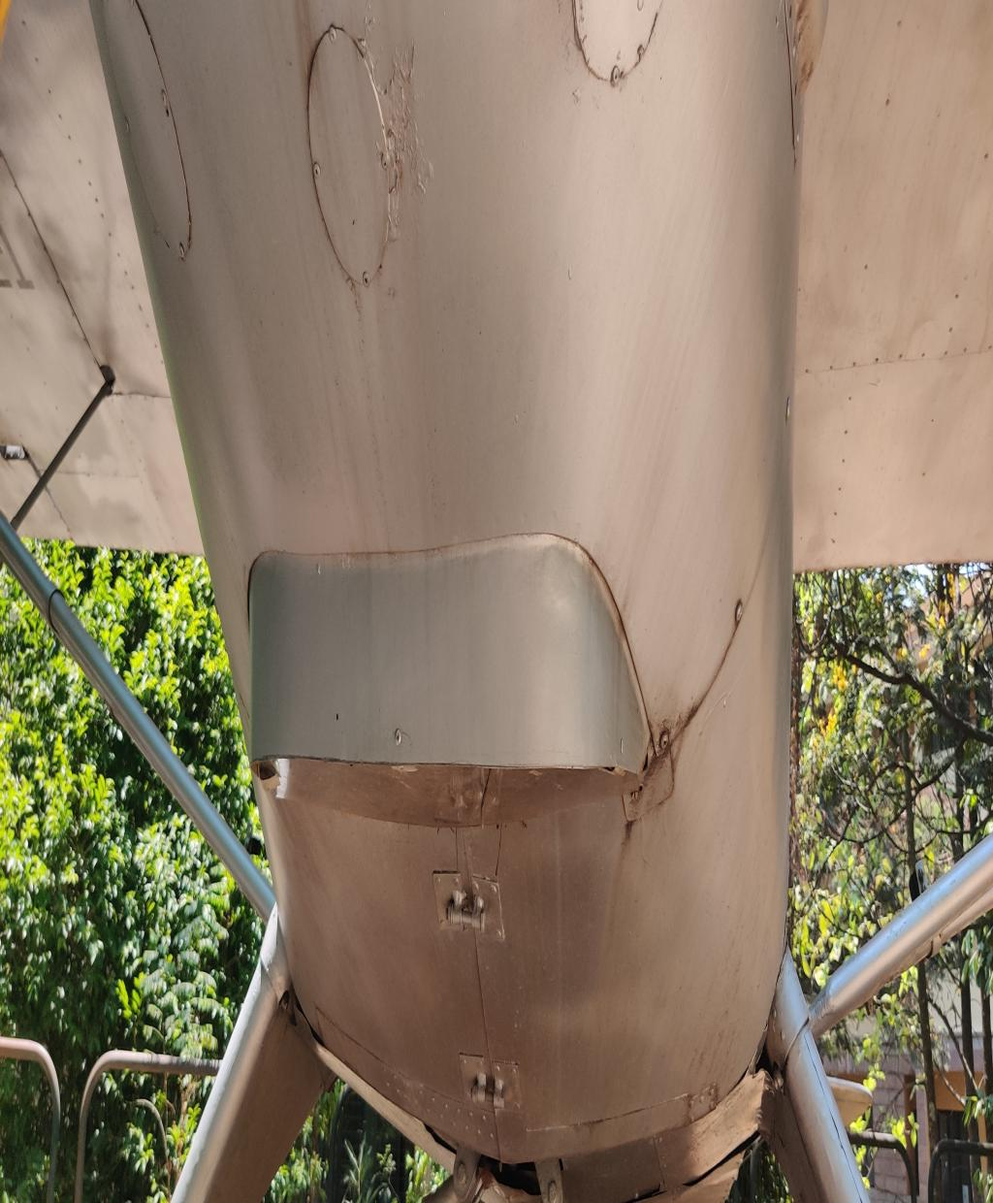corrosion: (638, 712, 676, 794)
crack: (472, 757, 500, 832)
